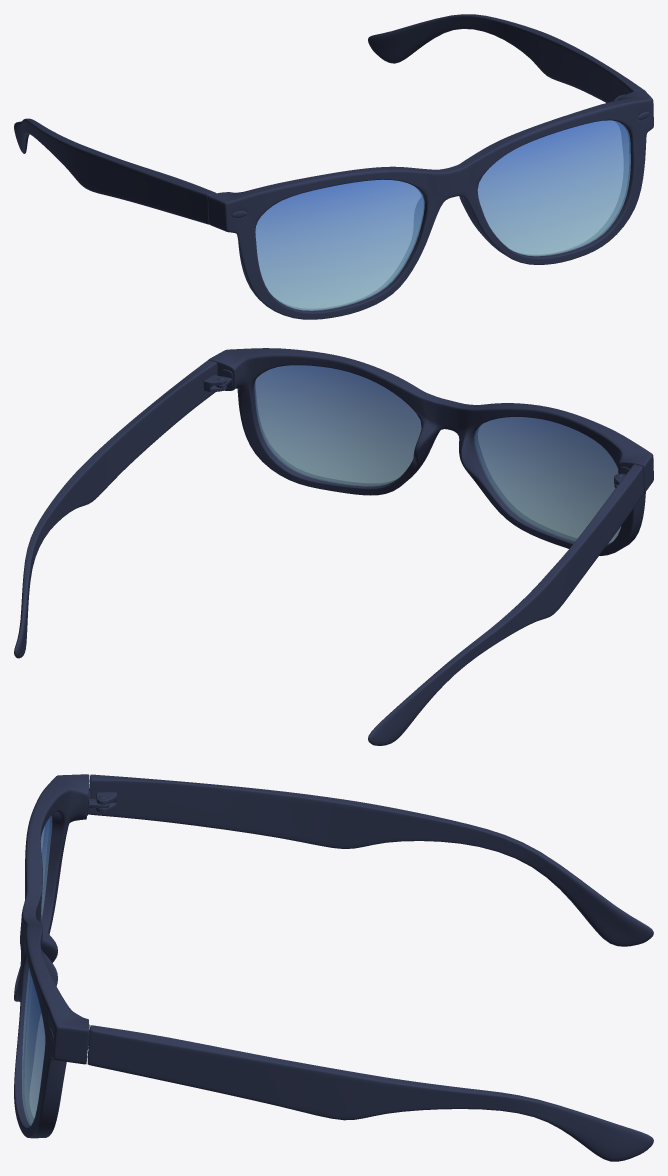
File: model_13_biru_gelap.glb
3 renders of one model, top to bottom at view 1: azimuth 30°, elevation 25°; view 2: azimuth 150°, elevation 25°; view 3: azimuth 270°, elevation 25°, orthographic. The views are drawn at different scales.
Parts seen in each view (by area): view 1: model_13_biru_gelap; view 2: model_13_biru_gelap; view 3: model_13_biru_gelap.
Part boxes in pixels (x1=…): model_13_biru_gelap: x1=14, y1=14, x2=653, y2=319; model_13_biru_gelap: x1=14, y1=348, x2=653, y2=745; model_13_biru_gelap: x1=14, y1=774, x2=653, y2=1161.
Size of the model in its own units: 12.39 by 3.47 by 12.12.
